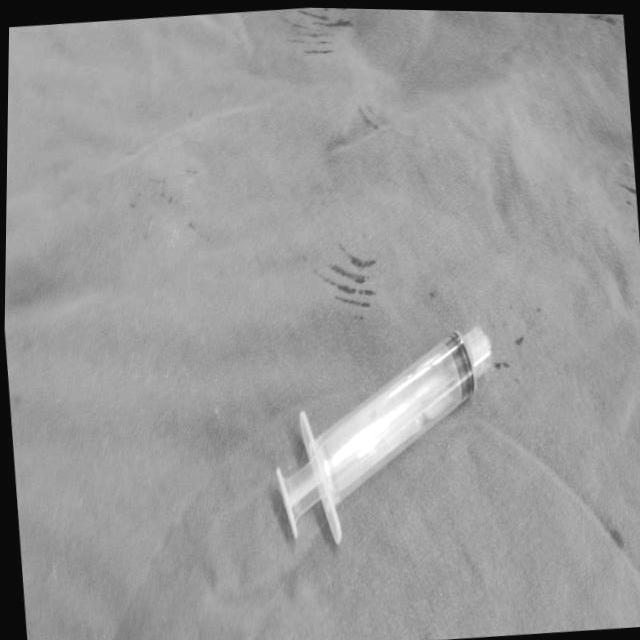Pathological: (3, 7, 639, 640)
Sharps: (273, 324, 493, 545)
